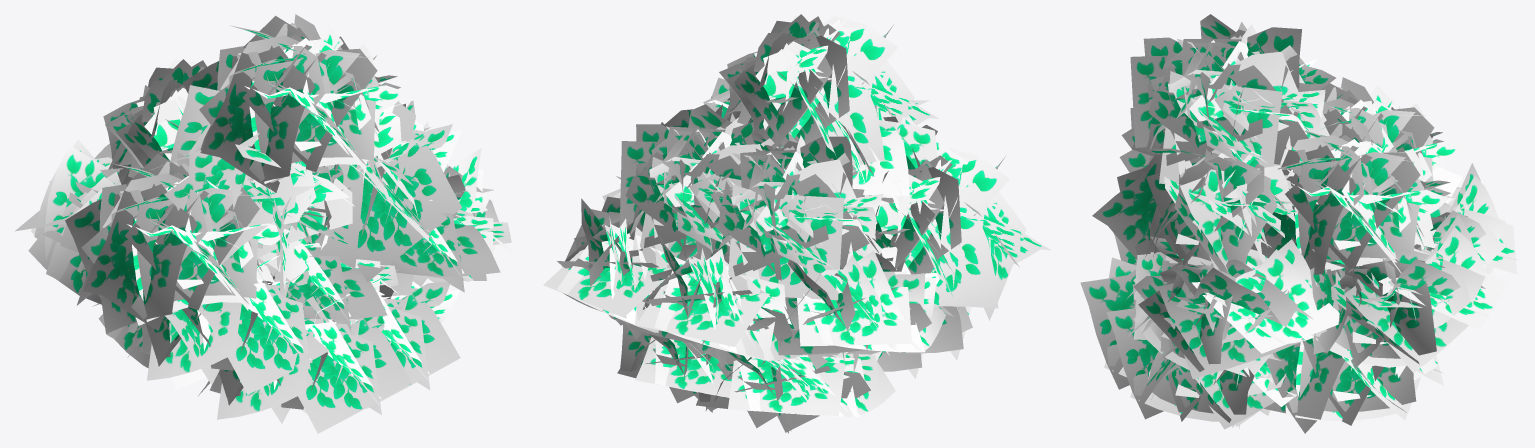
File: TreeTop_N.fbx
The picture shows the model from 3 angles, left to right: view 1: azimuth 30°, elevation 25°; view 2: azimuth 150°, elevation 25°; view 3: azimuth 270°, elevation 25°; orthographic projection. The views are drawn at different scales.
Visible parts, largest first — view 1: Bush_Wes005, Bush_Wes004, Bush_Wes007, Bush_Wes006, Bush_Wes010, Bush_Wes025, Bush_Wes008, Bush_Wes024, Bush_Wes011, Bush_Wes020, Bush_Wes009, Bush_Wes022; view 2: Bush_Wes020, Bush_Wes005, Bush_Wes004, Bush_Wes015, Bush_Wes024, Bush_Wes021, Bush_Wes022, Bush_Wes016, Bush_Wes006, Bush_Wes019, Bush_Wes010, Bush_Wes007 (+1 smaller); view 3: Bush_Wes005, Bush_Wes008, Bush_Wes015, Bush_Wes016, Bush_Wes007, Bush_Wes019, Bush_Wes011, Bush_Wes020, Bush_Wes021, Bush_Wes025, Bush_Wes006, Bush_Wes024.
Part boxes in pixels (bbox=[...]): Bush_Wes005: bbox=[182, 14, 407, 192]; Bush_Wes004: bbox=[65, 152, 289, 333]; Bush_Wes007: bbox=[290, 101, 461, 282]; Bush_Wes006: bbox=[149, 85, 361, 292]; Bush_Wes010: bbox=[127, 255, 329, 394]; Bush_Wes025: bbox=[198, 293, 411, 433]; Bush_Wes008: bbox=[389, 122, 513, 292]; Bush_Wes024: bbox=[15, 139, 123, 304]; Bush_Wes011: bbox=[356, 269, 460, 408]; Bush_Wes020: bbox=[103, 59, 219, 184]; Bush_Wes009: bbox=[267, 243, 398, 334]; Bush_Wes022: bbox=[92, 303, 205, 389]; Bush_Wes020: bbox=[690, 130, 889, 300]; Bush_Wes005: bbox=[719, 14, 938, 166]; Bush_Wes004: bbox=[862, 147, 1051, 320]; Bush_Wes015: bbox=[619, 104, 781, 269]; Bush_Wes024: bbox=[777, 238, 945, 373]; Bush_Wes021: bbox=[629, 235, 800, 368]; Bush_Wes022: bbox=[693, 351, 895, 433]; Bush_Wes016: bbox=[543, 196, 685, 339]; Bush_Wes006: bbox=[835, 100, 968, 213]; Bush_Wes019: bbox=[617, 324, 731, 412]; Bush_Wes010: bbox=[893, 306, 972, 360]; Bush_Wes007: bbox=[663, 77, 738, 127]; Bush_Wes005: bbox=[1130, 14, 1335, 184]; Bush_Wes008: bbox=[1127, 236, 1339, 381]; Bush_Wes015: bbox=[1251, 115, 1450, 274]; Bush_Wes016: bbox=[1310, 215, 1507, 375]; Bush_Wes007: bbox=[1092, 142, 1298, 273]; Bush_Wes019: bbox=[1264, 338, 1443, 433]; Bush_Wes011: bbox=[1106, 296, 1302, 429]; Bush_Wes020: bbox=[1320, 77, 1464, 197]; Bush_Wes021: bbox=[1430, 163, 1518, 274]; Bush_Wes025: bbox=[1080, 257, 1137, 389]; Bush_Wes006: bbox=[1119, 127, 1153, 172]; Bush_Wes024: bbox=[1399, 106, 1462, 203].
Size of the model in its own units: 16.5 by 13.19 by 14.46.
